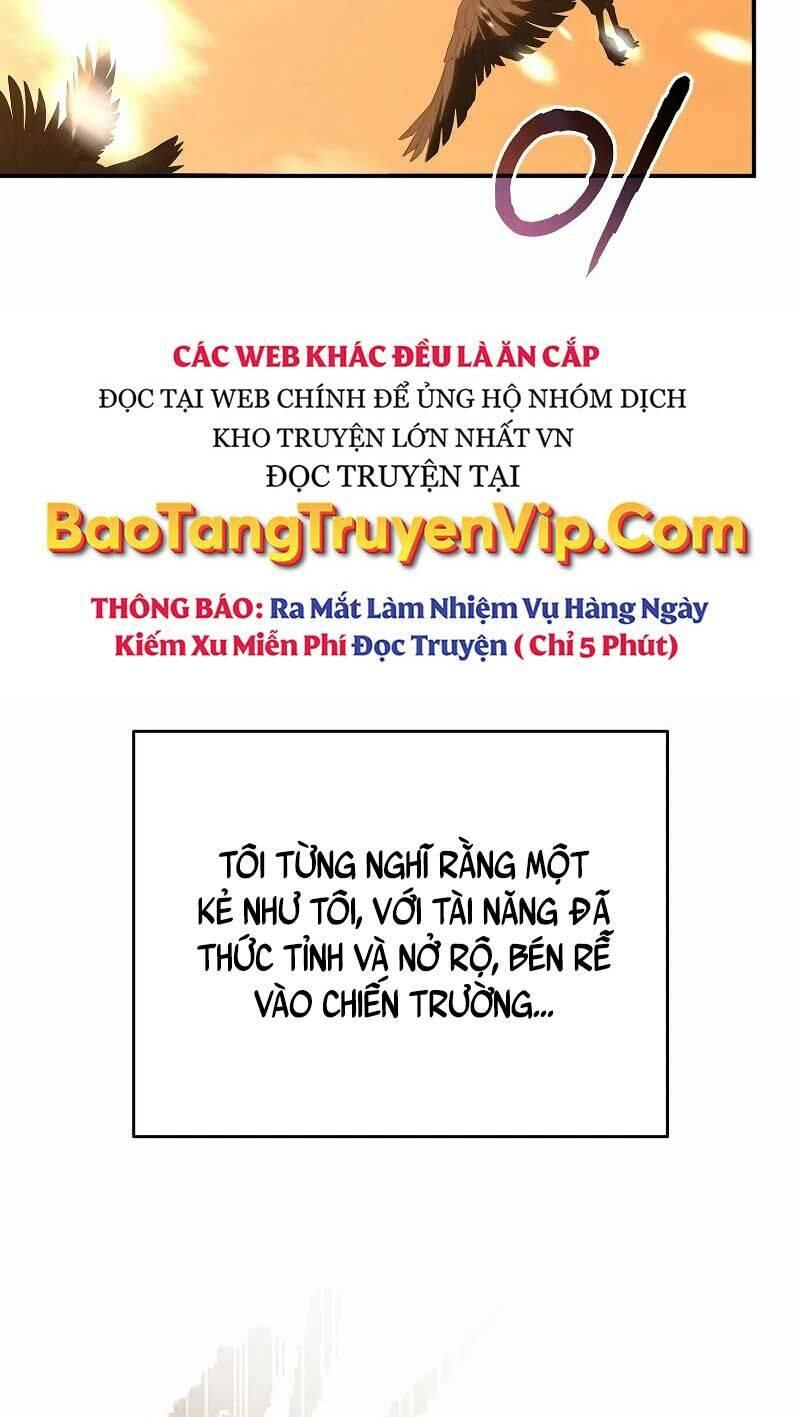quangcao: (40, 328, 762, 688)
